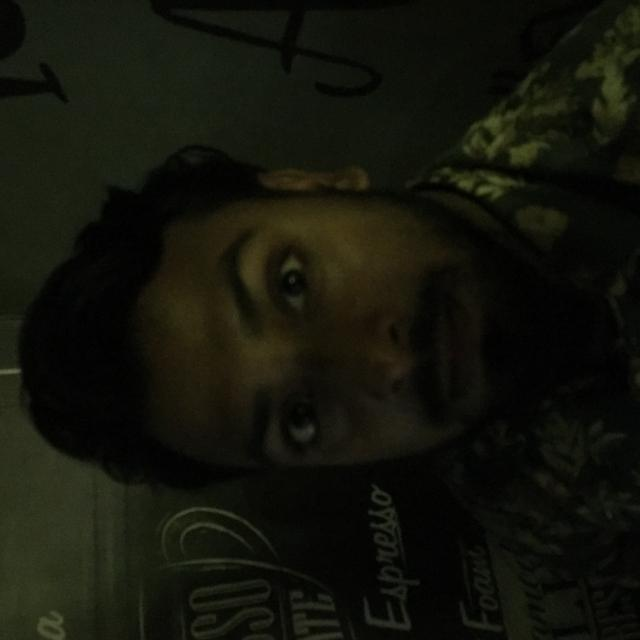natural: (115, 160, 583, 553)
